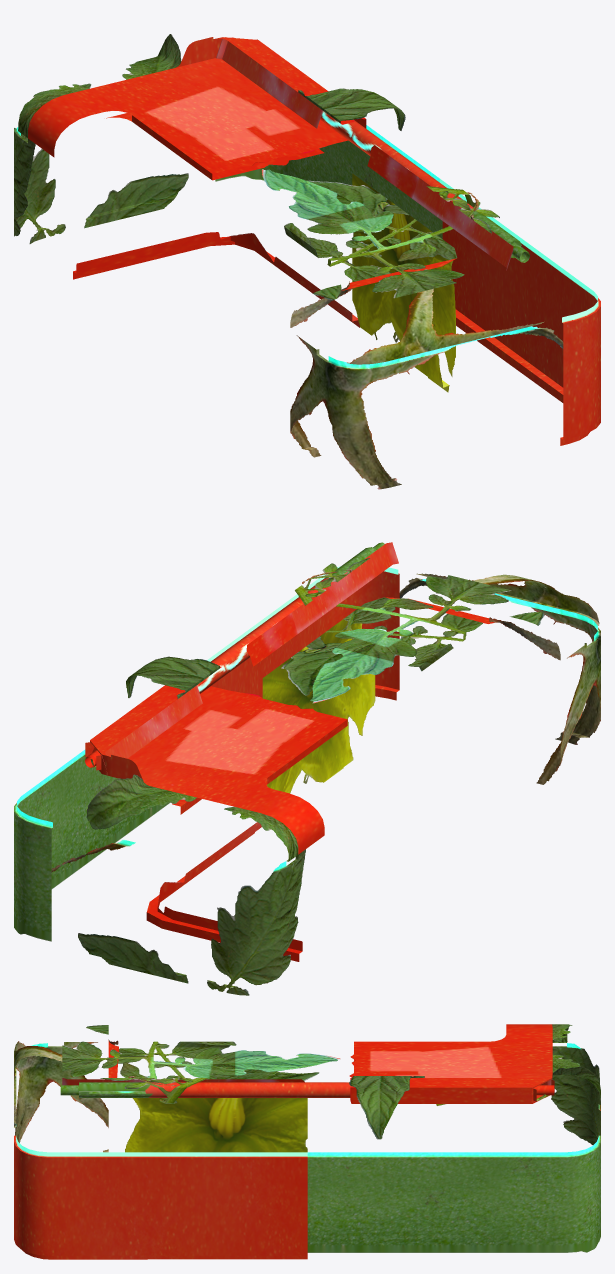
The model's file is hologram_table.fbx.
3 renders of one model, top to bottom at view 1: azimuth 30°, elevation 25°; view 2: azimuth 150°, elevation 25°; view 3: azimuth 270°, elevation 25°, orthographic. The views are drawn at different scales.
Visible parts, largest first — view 1: table_holi, Glass, shaft; view 2: table_holi, Glass, shaft; view 3: table_holi, shaft, Glass.
Boxes of the visible parts, x1=… form: table_holi: x1=14, y1=34, x2=600, y2=489; Glass: x1=216, y1=39, x2=513, y2=270; shaft: x1=232, y1=37, x2=529, y2=262; table_holi: x1=14, y1=558, x2=600, y2=995; Glass: x1=101, y1=542, x2=398, y2=765; shaft: x1=85, y1=542, x2=384, y2=767; table_holi: x1=14, y1=1024, x2=600, y2=1259; shaft: x1=60, y1=1082, x2=554, y2=1097; Glass: x1=62, y1=1078, x2=552, y2=1085.
Bounding box in the file's own units: 130 × 85.03 × 290.
